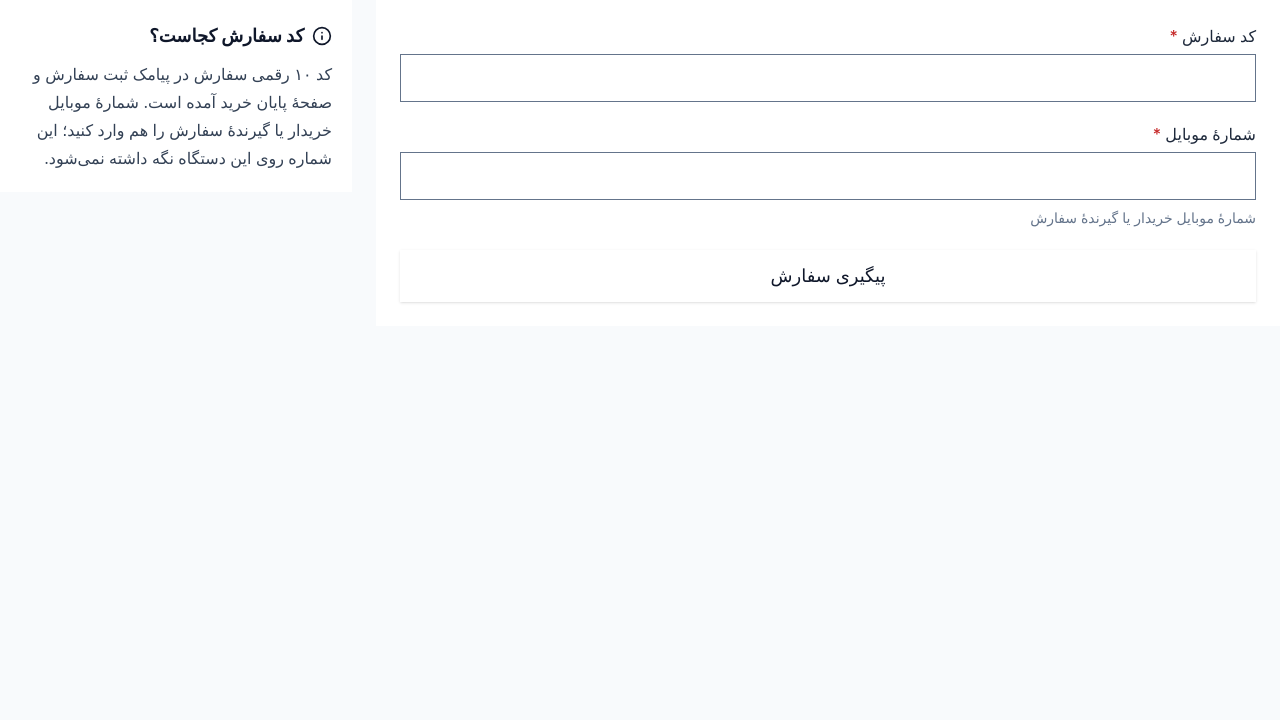
one request per press › a double press sends one; typing sends none
Later steps or results of the test are not shown.
Type "2583973877" into the field labelled "کد سفارش *" at (828, 78), box [401, 55, 1255, 101]
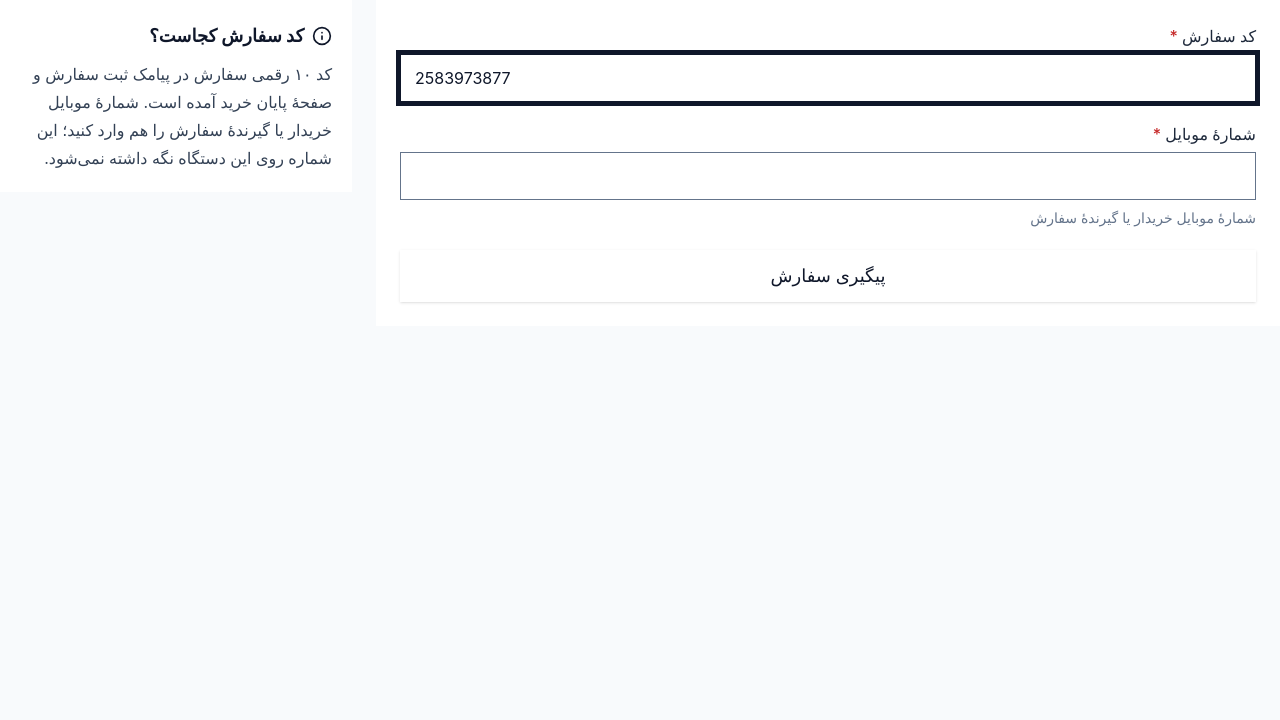
Type "09011234513" into the field labelled "شمارهٔ موبایل *" at (828, 176), box [401, 153, 1255, 199]
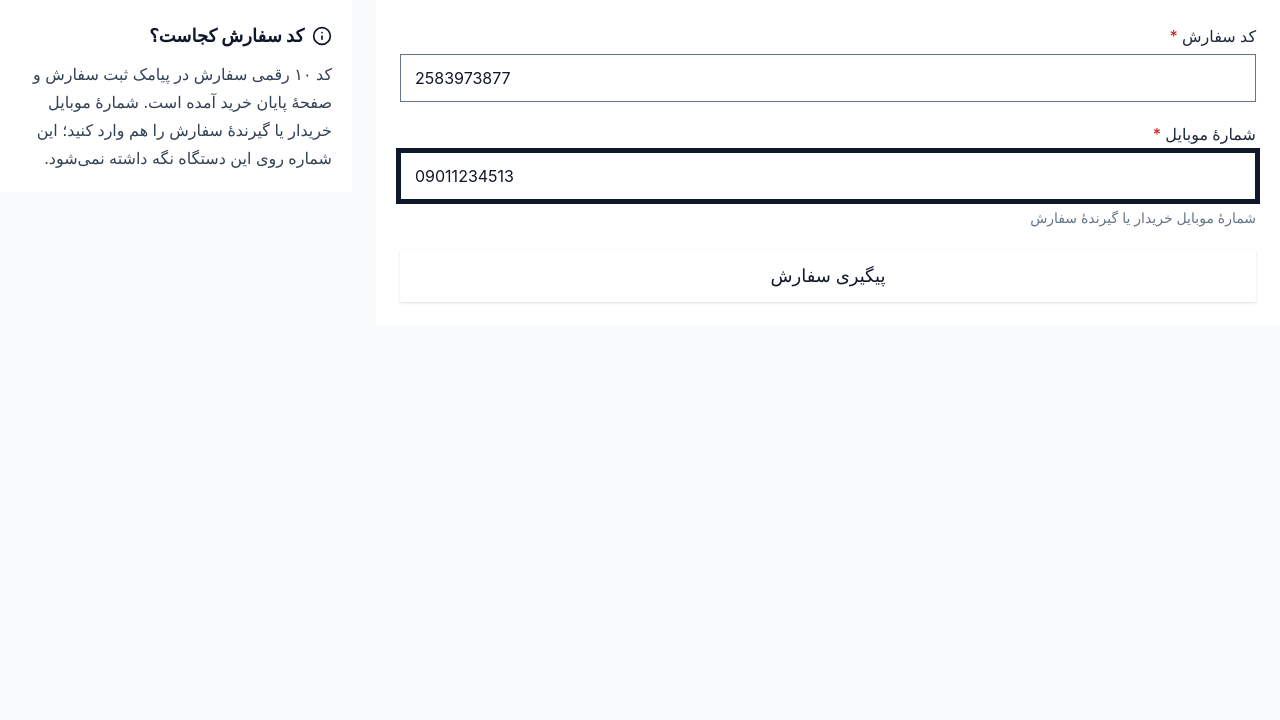
Double-click the button "پیگیری سفارش" at (828, 276), box [400, 250, 1256, 302]
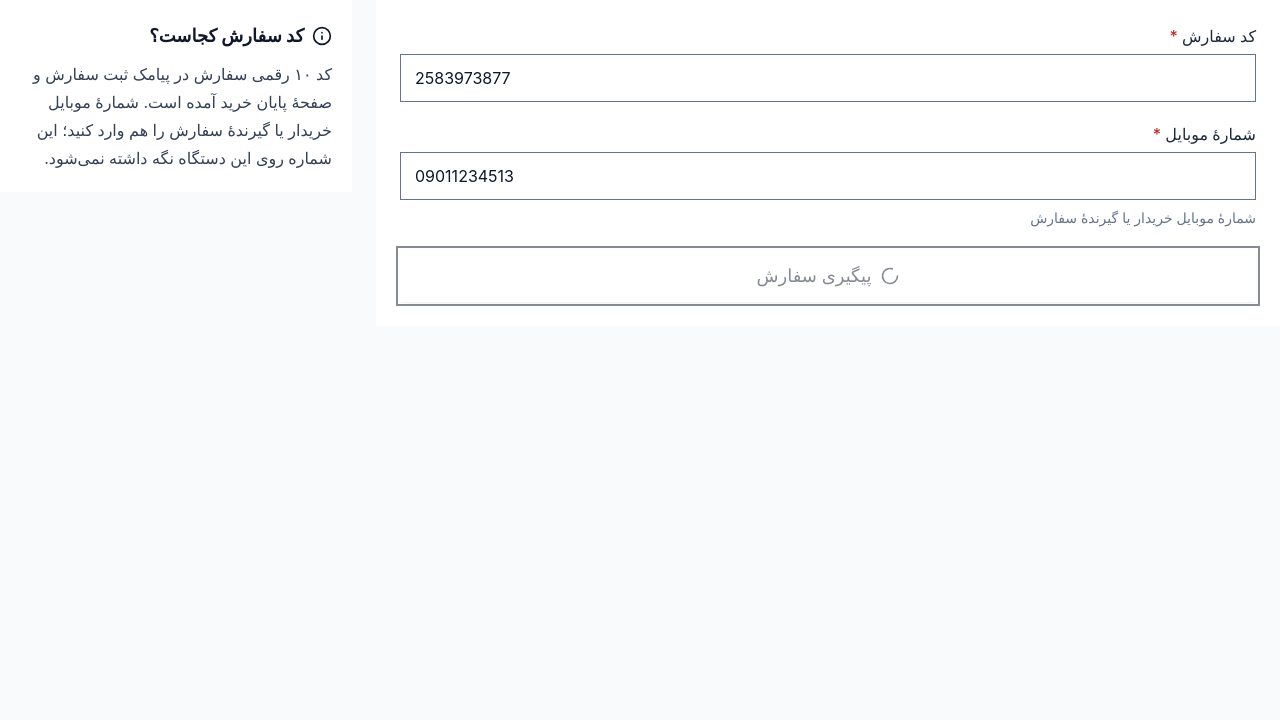
Click the button "پیگیری سفارش" at (828, 276), box [400, 250, 1256, 302]
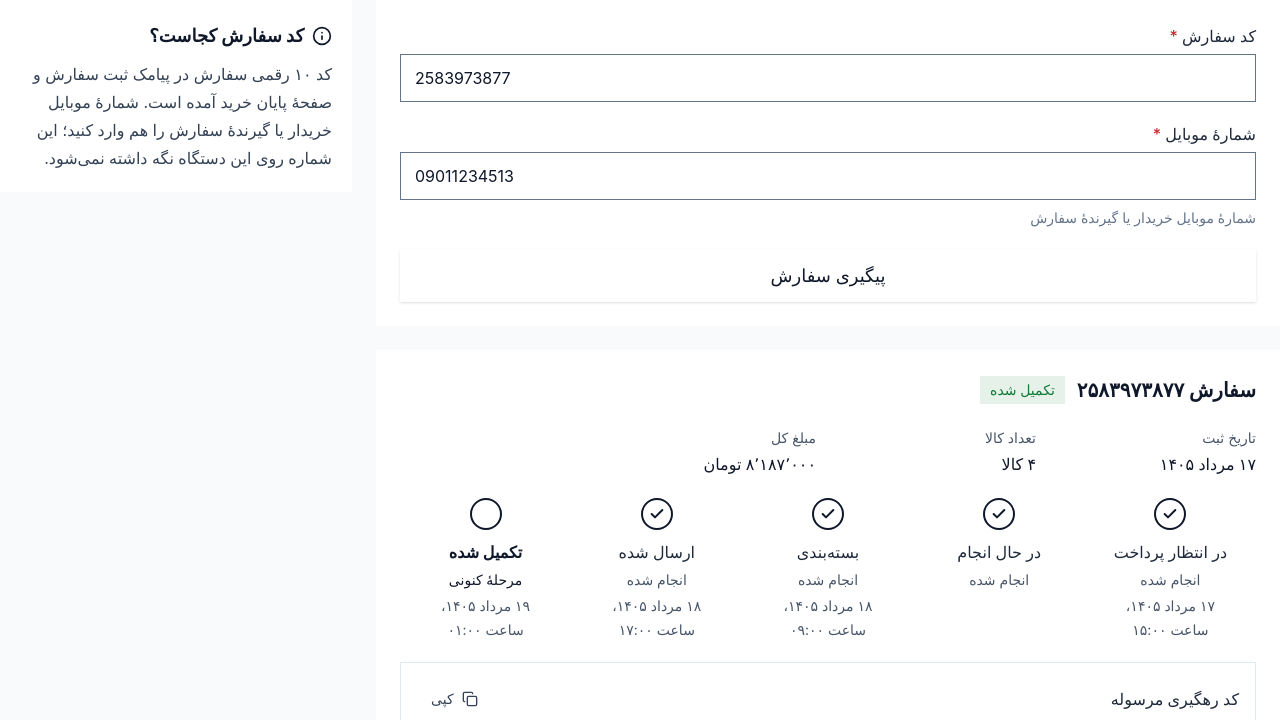
Now the heading "سفارش ۲۵۸۳۹۷۳۸۷۷ تکمیل شده" is shown, box [980, 376, 1256, 404]
